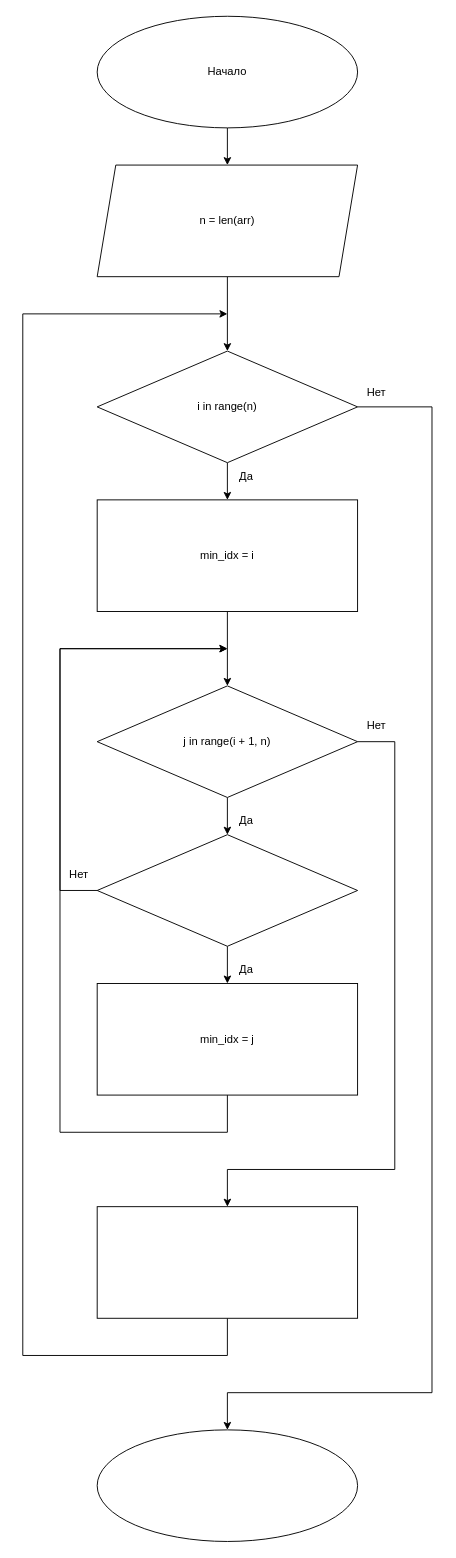
Some shapes in this 456 by 1558 pixel diagram are drawn without their labels. Each missing label, with the centre of its shape:
"arr[i], arr[min_idx] = arr[min_idx], arr[i]" goes at [227,1262].
"arr[j] < arr[min_idx]" goes at [227,890].
"Конец" goes at [227,1485].
